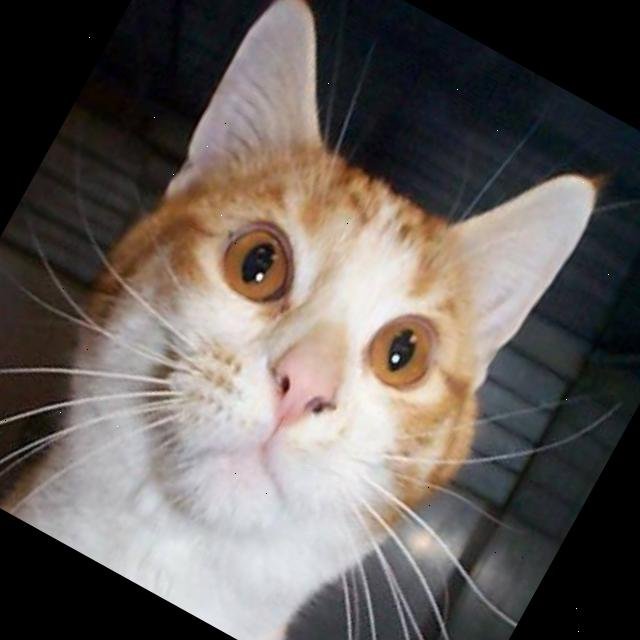cat-eye-normal: (342, 282, 468, 417), (198, 199, 328, 329)
